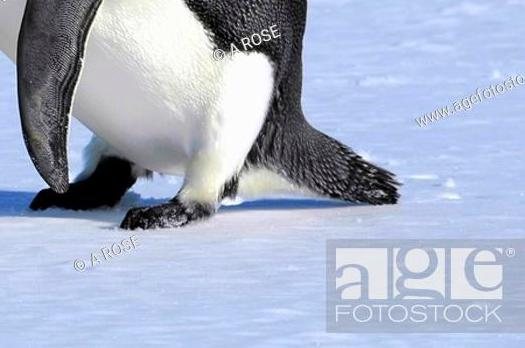Emperor Penguin: (0, 0, 423, 239)
